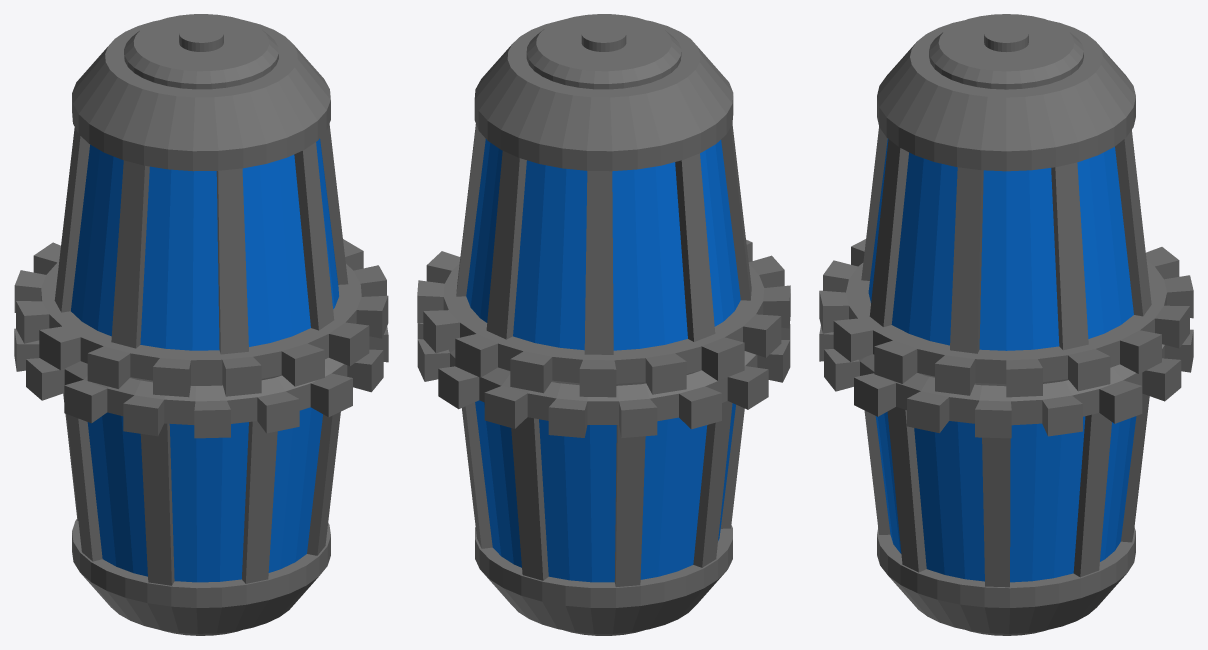
File: ShieldPiece.fbx
The picture shows the model from 3 angles, left to right: view 1: azimuth 30°, elevation 25°; view 2: azimuth 150°, elevation 25°; view 3: azimuth 270°, elevation 25°; orthographic projection.
Visible parts, largest first — view 1: Cylinder.001; view 2: Cylinder.001; view 3: Cylinder.001.
Part boxes in pixels (x1,y1,x2,y2): Cylinder.001: (14, 14, 388, 635); Cylinder.001: (417, 14, 790, 635); Cylinder.001: (819, 14, 1193, 635).
Bounding box in the file's own units: 271 × 466 × 271.
